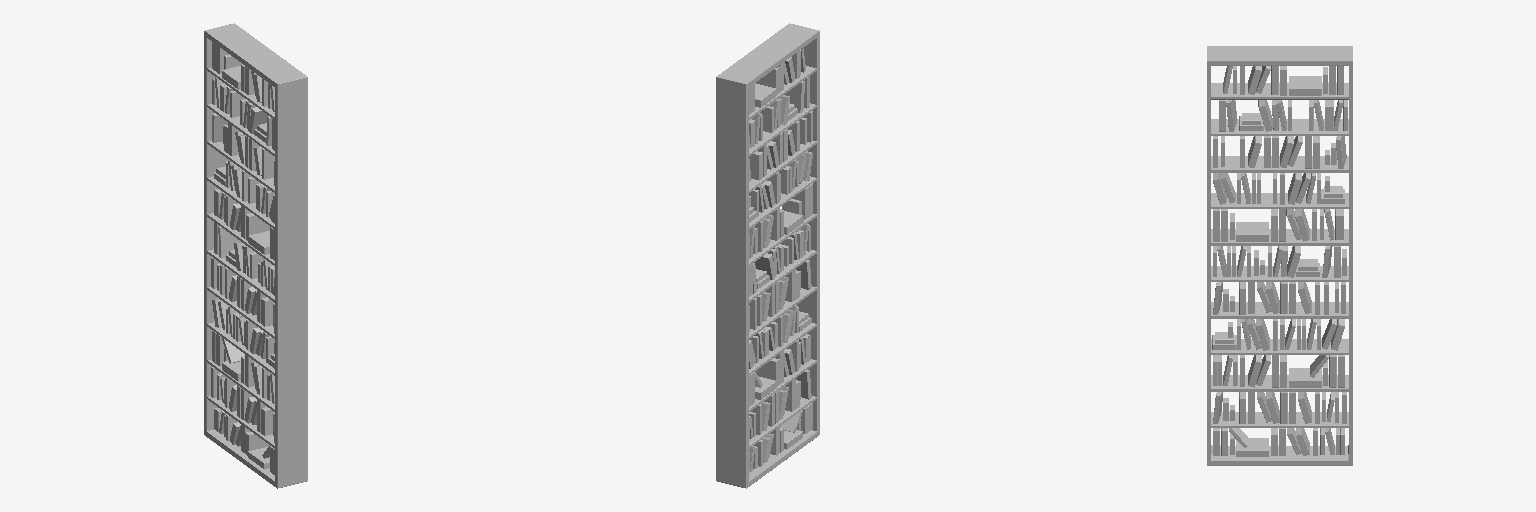
The model's file is BookcaseNBooks.obj.
3 renders of one model, left to right at view 1: azimuth 30°, elevation 25°; view 2: azimuth 150°, elevation 25°; view 3: azimuth 270°, elevation 25°, orthographic.
Parts seen in each view (by area): view 1: BookcaseNBooks; view 2: BookcaseNBooks; view 3: BookcaseNBooks.
Boxes of the visible parts, x1=… form: BookcaseNBooks: x1=204, y1=23, x2=307, y2=488; BookcaseNBooks: x1=716, y1=23, x2=819, y2=488; BookcaseNBooks: x1=1207, y1=46, x2=1352, y2=465.
Bounding box in the file's own units: 2.61 × 33.11 × 10.89.